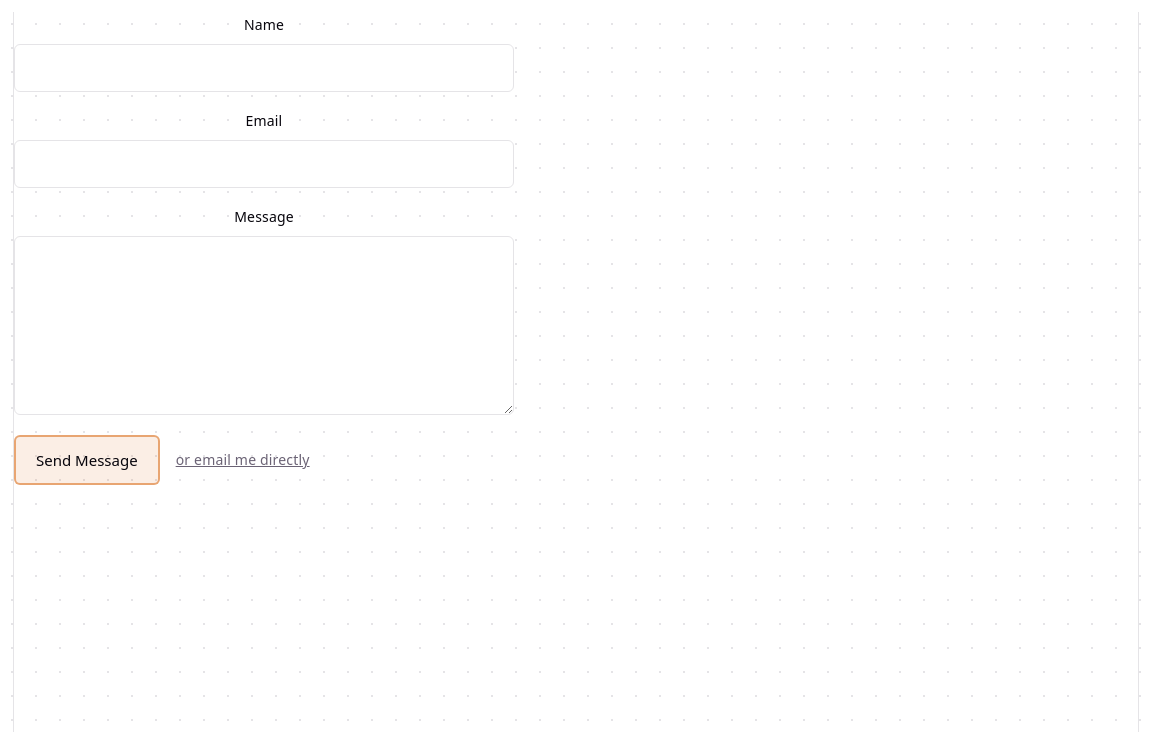
Test: ContactTab › shows a generic error on a non-400 failure response
The width and height of the screenshot is (1152, 732).
In the field labelled "Name": (264,68) [14,44,514,92], type "Ada Lovelace"
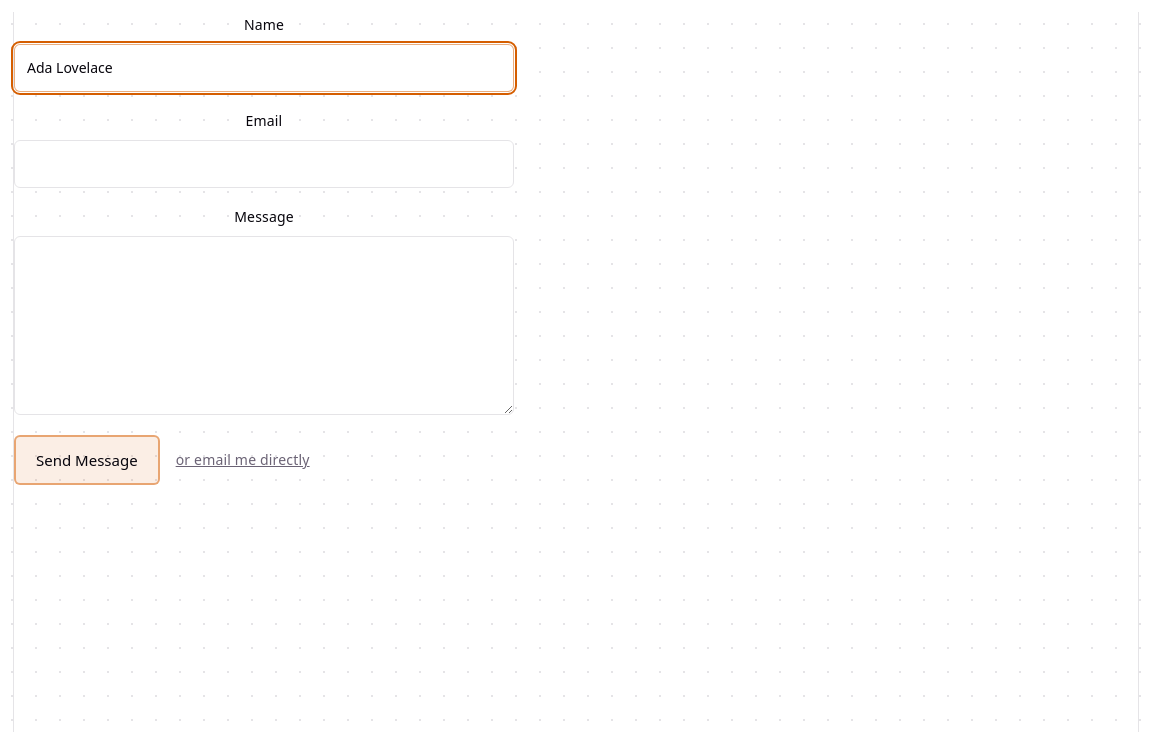
In the field labelled "Email": (264,164) [14,140,514,188], type "ada@example.com"
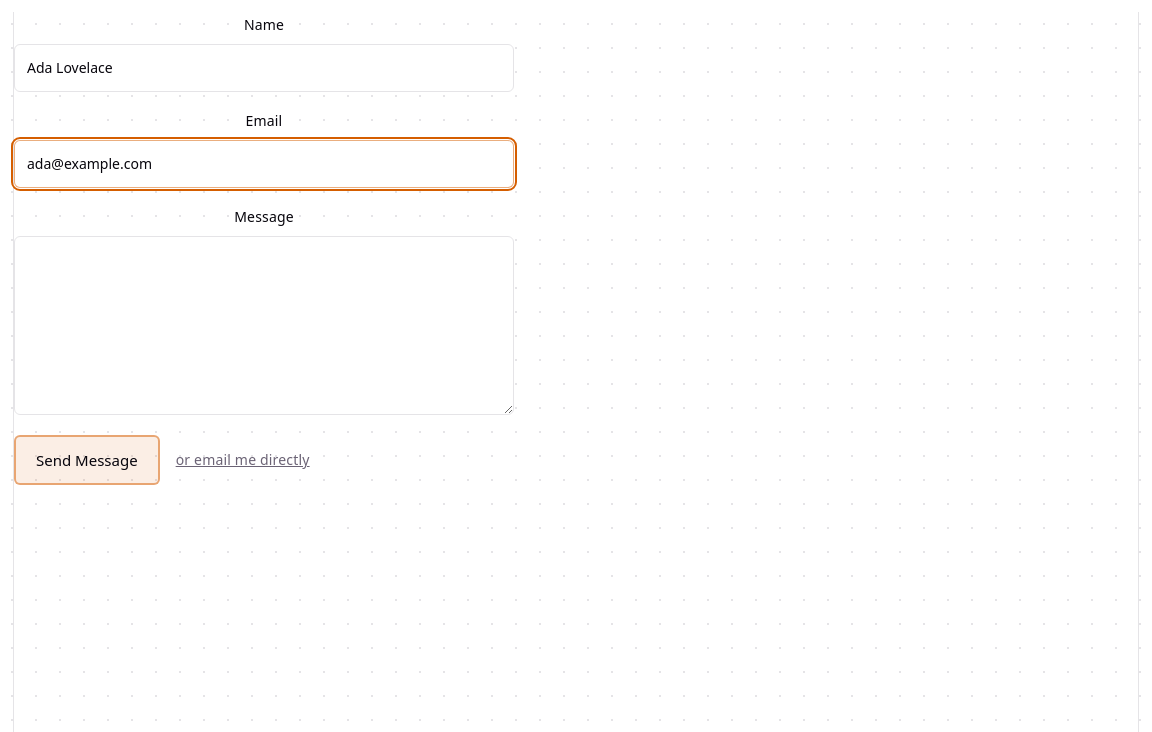
In the text box labelled "Message": (264,326) [14,236,514,415], type "Hello there"
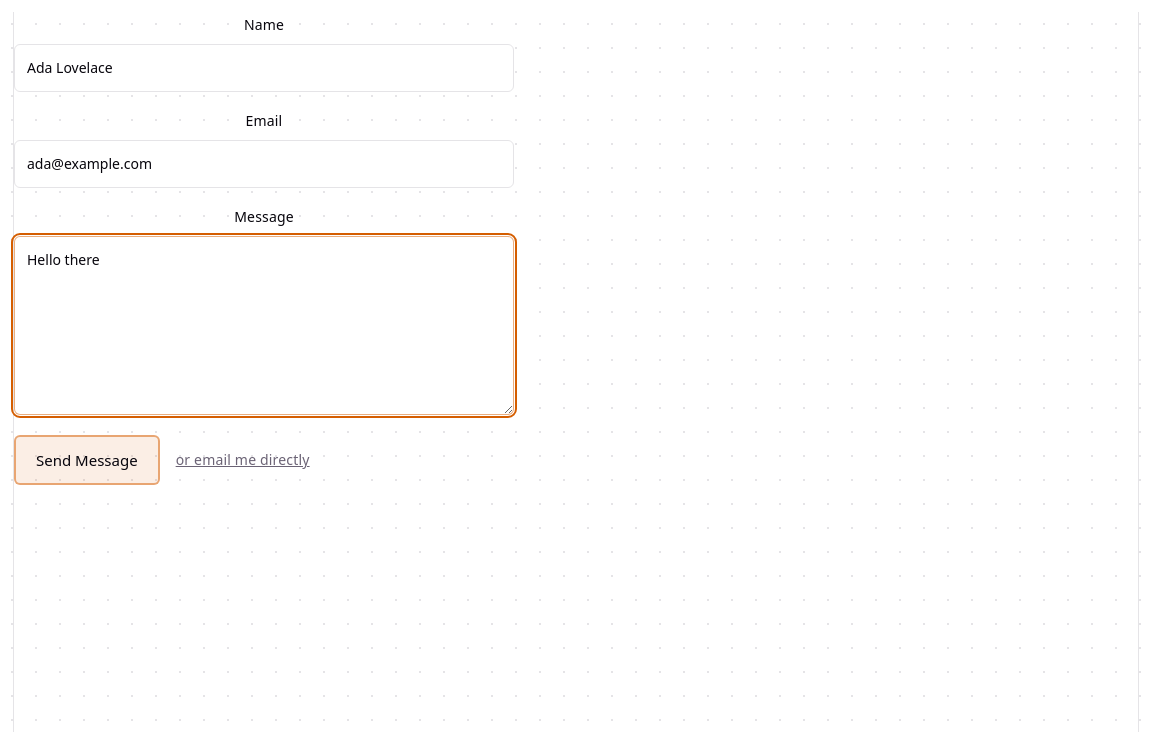
Click the button "Send Message": (87,460) [14,435,160,485]
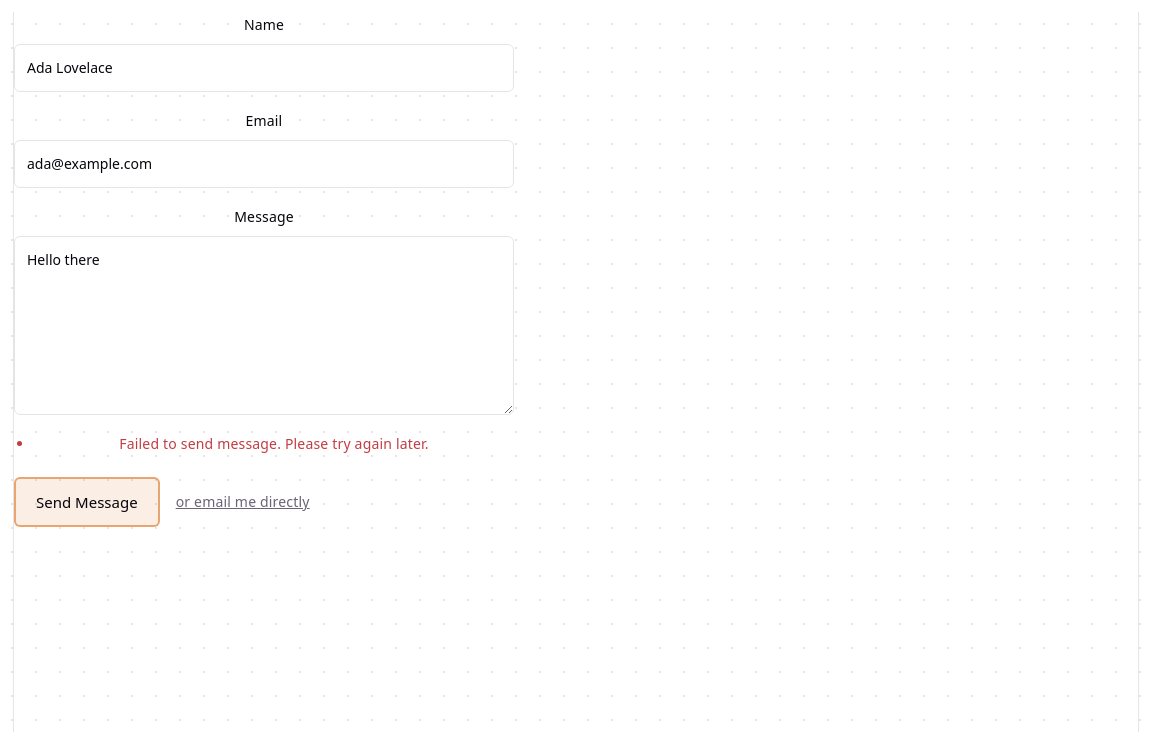
Result: the list item "Failed to send message. Please try again later." is shown at [119,434,429,453]
